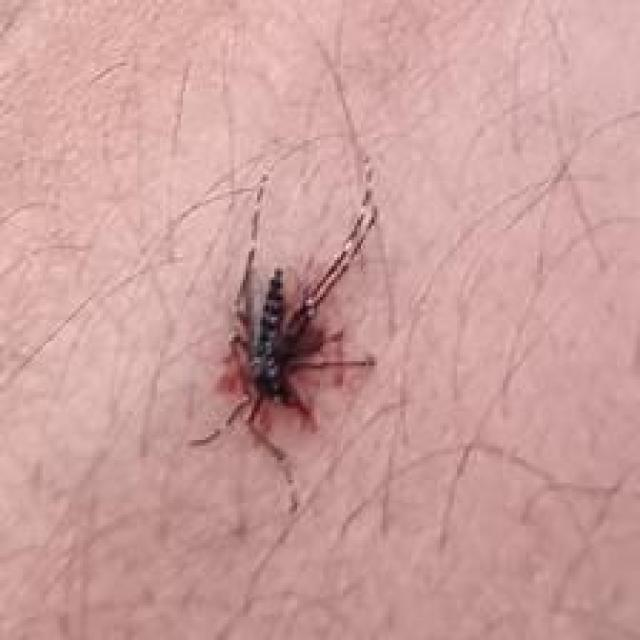Aedes albopictus: (189, 161, 380, 513)
